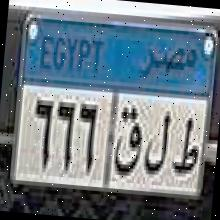6: (72, 98, 102, 178), (50, 95, 77, 177), (28, 92, 55, 174)
Taa: (168, 107, 202, 188)
laam: (142, 106, 173, 178)
qaaf: (111, 101, 146, 180)
